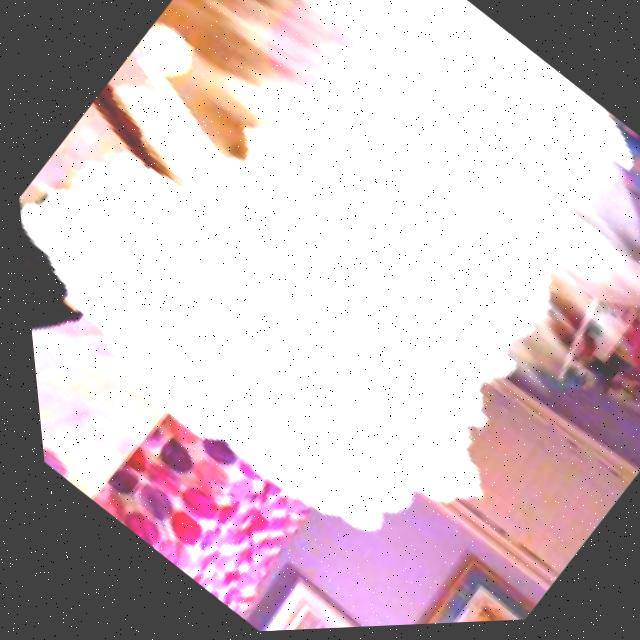Smoke: (15, 0, 640, 618)
